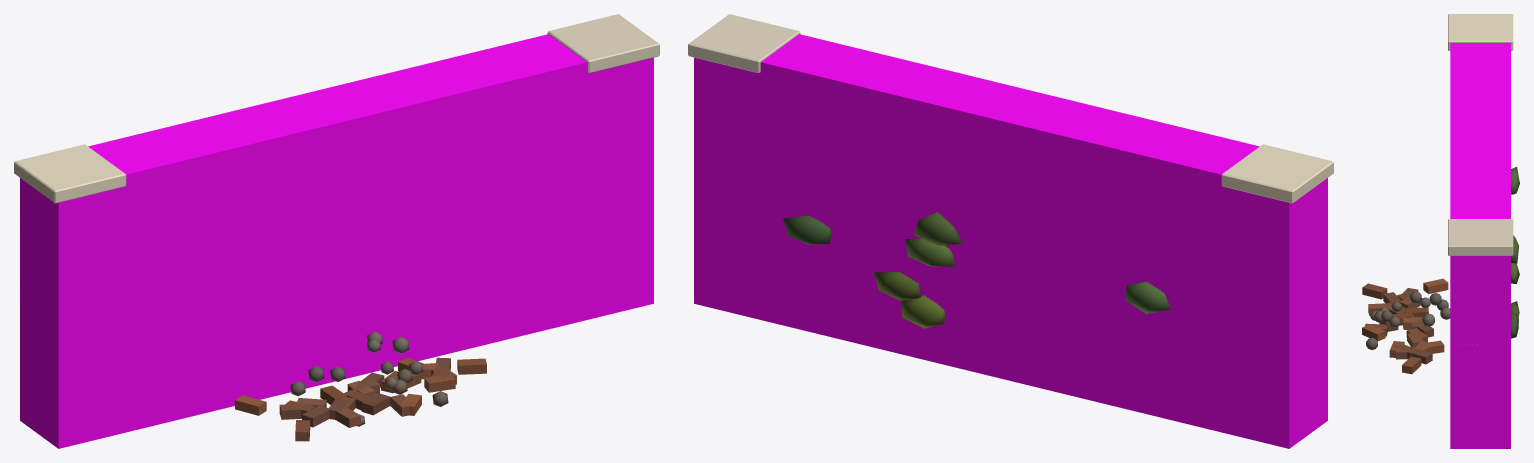
The model's file is ENV_Wall_Brick_Ruin_A.glb.
3 views of the same model, side by side, from view 1: azimuth 30°, elevation 25°; view 2: azimuth 150°, elevation 25°; view 3: azimuth 270°, elevation 25° (orthographic). The views are drawn at different scales.
Visible parts, largest first — view 1: COL_Wall, STATE_broken, ENV_Wall_Brick_Ruin_A_Base; view 2: COL_Wall, ENV_Wall_Brick_Ruin_A_Base, STATE_broken; view 3: COL_Wall, STATE_broken, ENV_Wall_Brick_Ruin_A_Base.
Boxes of the visible parts, x1,y1,x2,y2 form: COL_Wall: [20, 34, 653, 448]; STATE_broken: [235, 331, 486, 441]; ENV_Wall_Brick_Ruin_A_Base: [14, 14, 659, 203]; COL_Wall: [694, 34, 1327, 448]; ENV_Wall_Brick_Ruin_A_Base: [688, 14, 1333, 203]; STATE_broken: [783, 212, 1171, 328]; COL_Wall: [1450, 43, 1510, 448]; STATE_broken: [1362, 166, 1519, 374]; ENV_Wall_Brick_Ruin_A_Base: [1448, 14, 1513, 392].
Bounding box in the file's own units: 5.9 × 2.48 × 1.69.
